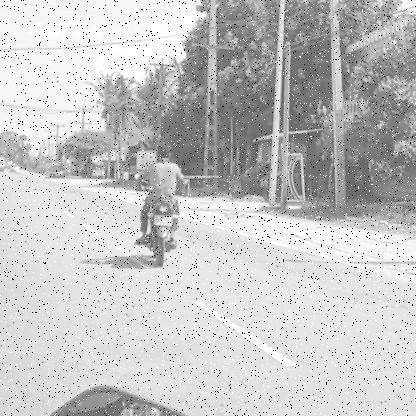motorcycle: (132, 196, 186, 268)
